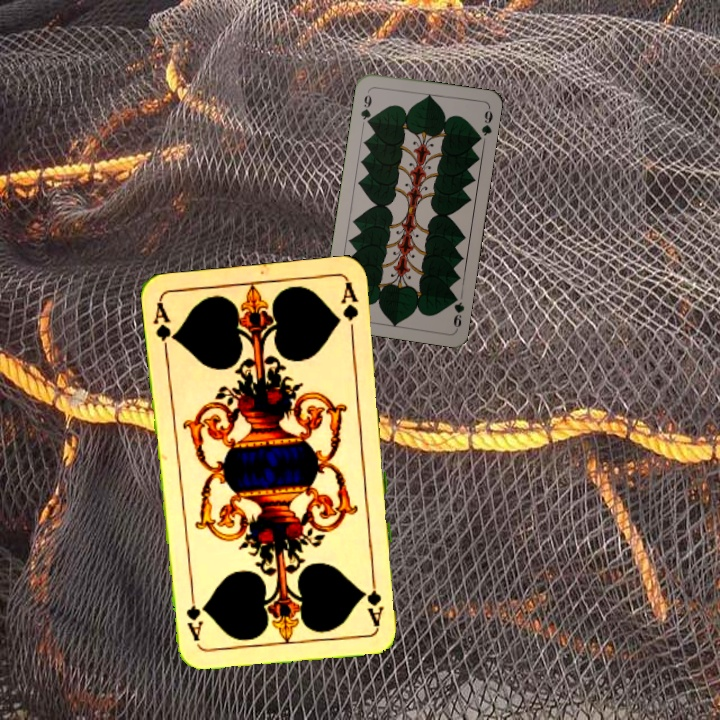G9: (448, 290, 467, 332), (357, 91, 374, 128)
GA: (150, 298, 179, 358), (364, 569, 386, 628)
